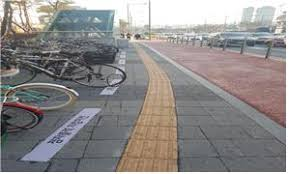guide_blocks: (115, 98, 180, 174), (140, 56, 174, 98), (134, 43, 148, 57)
